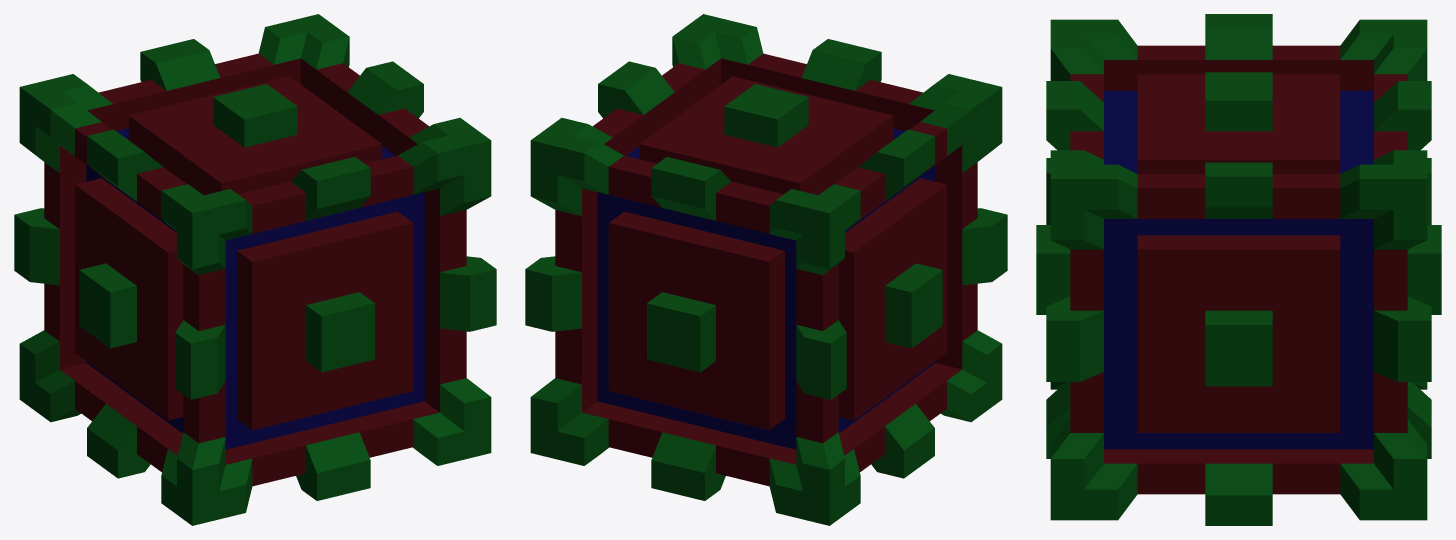
File: PerkCube3.fbx
The picture shows the model from 3 angles, left to right: view 1: azimuth 30°, elevation 25°; view 2: azimuth 150°, elevation 25°; view 3: azimuth 270°, elevation 25°; orthographic projection. The views are drawn at different scales.
Parts seen in each view (by area): view 1: PerkCube3_LOD0; view 2: PerkCube3_LOD0; view 3: PerkCube3_LOD0.
Boxes of the visible parts, bbox=[...] form: PerkCube3_LOD0: bbox=[14, 14, 496, 525]; PerkCube3_LOD0: bbox=[525, 14, 1007, 525]; PerkCube3_LOD0: bbox=[1036, 14, 1441, 525].
Size of what is drawn, in the model's own units: 0.3 by 0.3 by 0.3.
